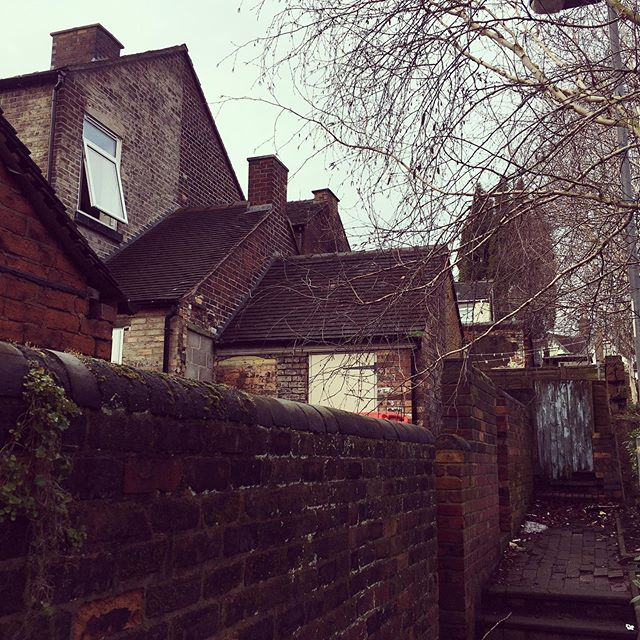building: (1, 27, 451, 427)
door: (536, 375, 599, 480)
tree: (344, 1, 640, 298)
